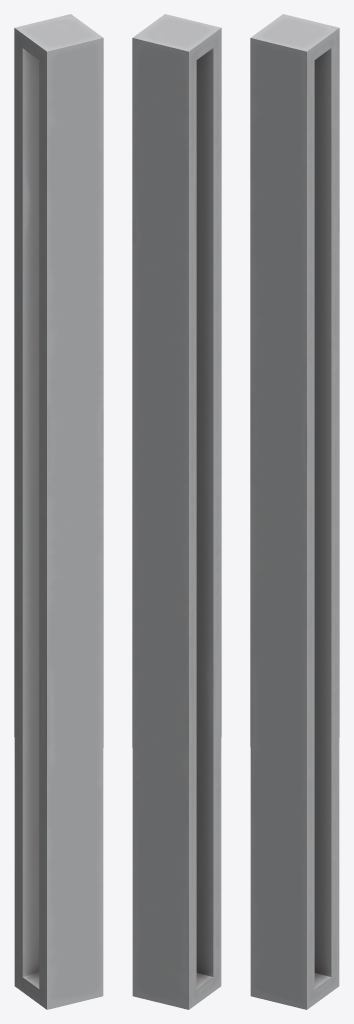
The model's file is Pfb_SteelFrame__2.fbx.
3 views of the same model, side by side, from view 1: azimuth 30°, elevation 25°; view 2: azimuth 150°, elevation 25°; view 3: azimuth 330°, elevation 25° (orthographic).
Visible parts, largest first — view 1: Mat_SteelFrame_01; view 2: Mat_SteelFrame_01; view 3: Mat_SteelFrame_01.
Part boxes in pixels (x1=…): Mat_SteelFrame_01: x1=14, y1=14, x2=103, y2=1009; Mat_SteelFrame_01: x1=132, y1=14, x2=221, y2=1009; Mat_SteelFrame_01: x1=250, y1=14, x2=339, y2=1009.
Size of the model in its own units: 0.4938 by 8 by 0.4938.
1 material, 1 textured.
